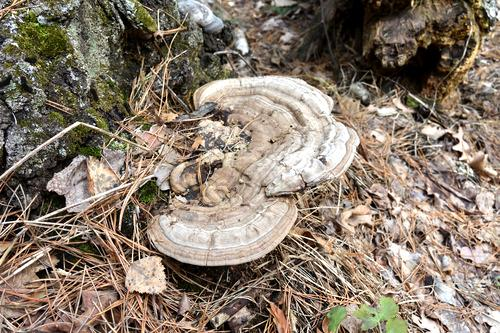Ganoderma - Fruit Body: (143, 74, 361, 265)
